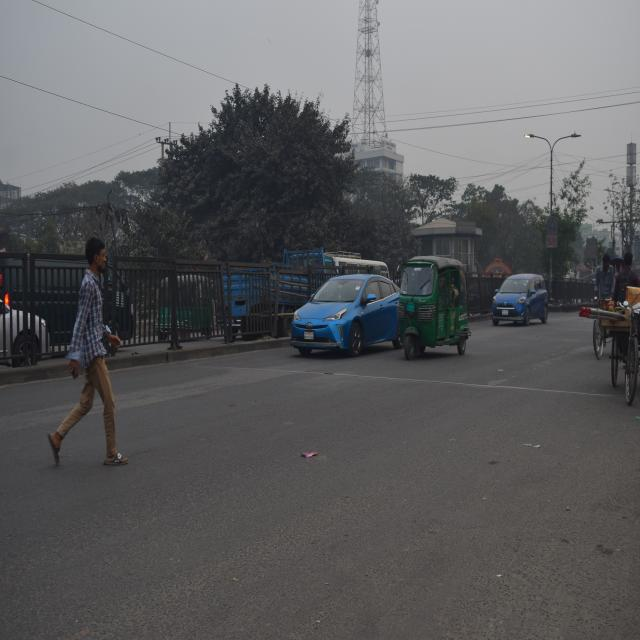car: (295, 273, 402, 354), (490, 266, 548, 328)
